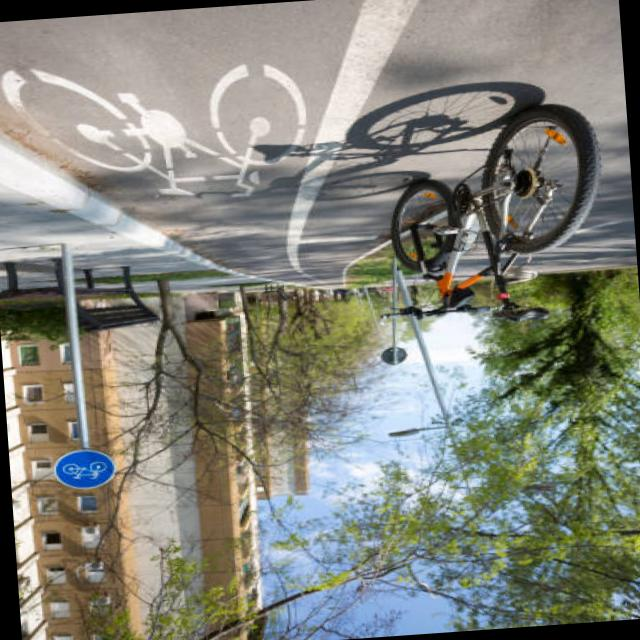bicycle: (50, 438, 117, 500)
